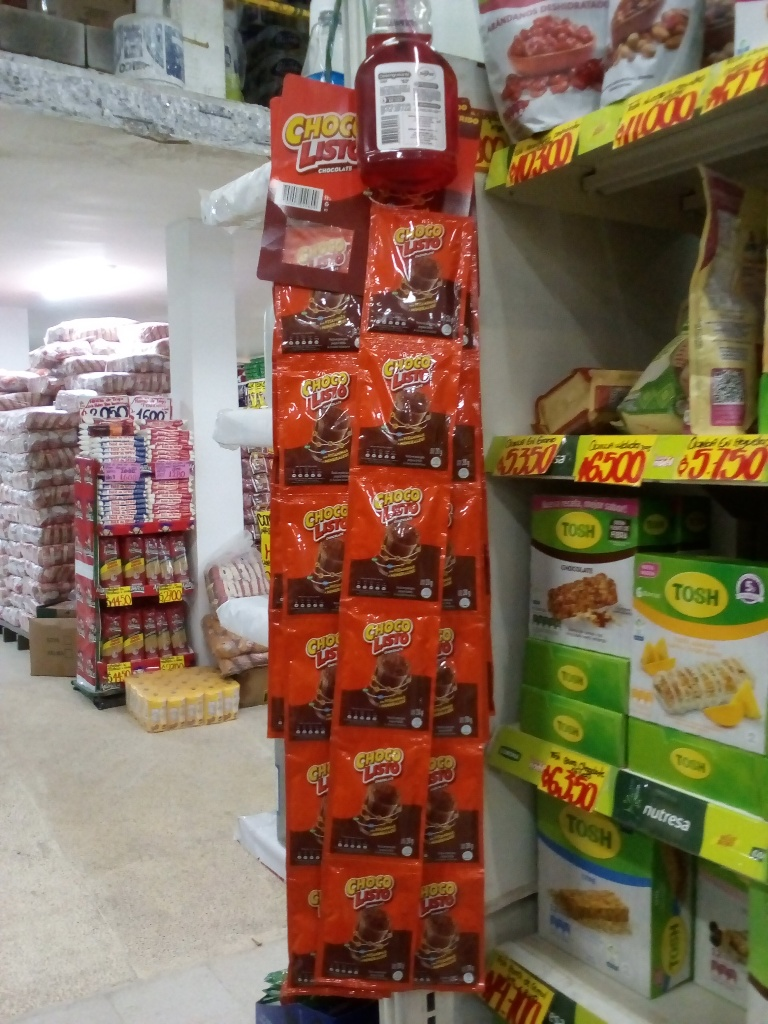COL0170103SOB02000: (362, 195, 473, 329)
